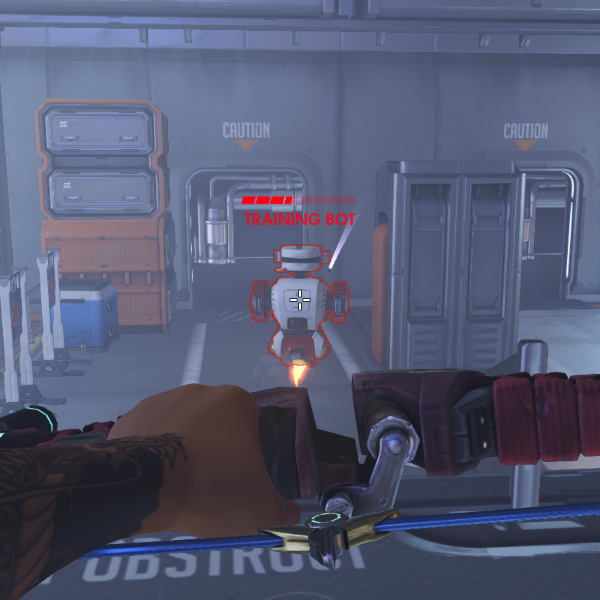hpbar: (241, 196, 357, 204)
